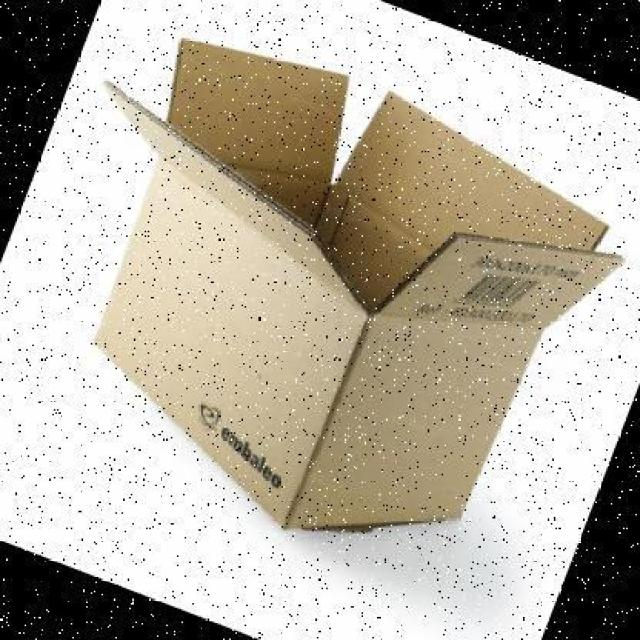box: (93, 36, 625, 531)
opened: (102, 39, 625, 321)
